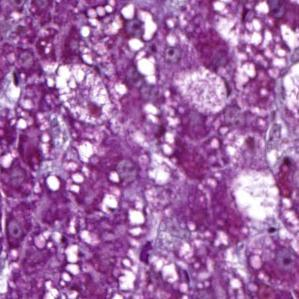ballooning: (56, 61, 114, 128)
